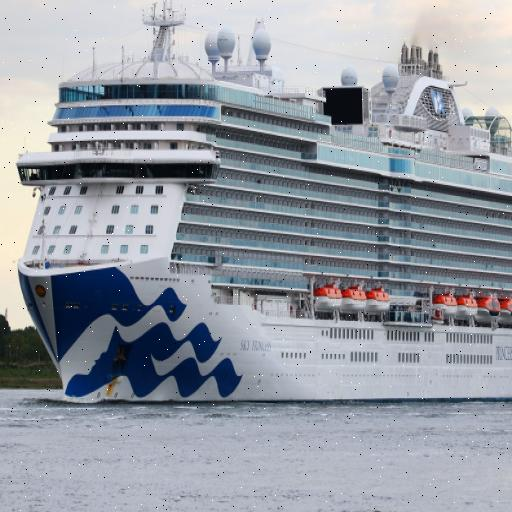cruises: (11, 1, 512, 414)
